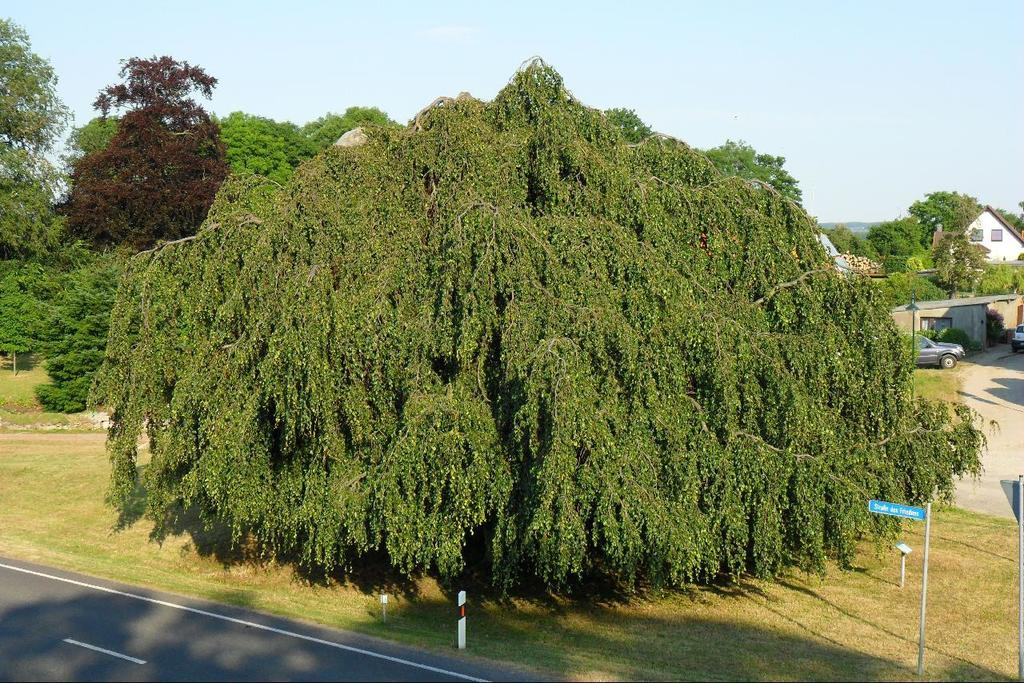Car: (899, 330, 963, 367), (1008, 321, 1023, 354)
